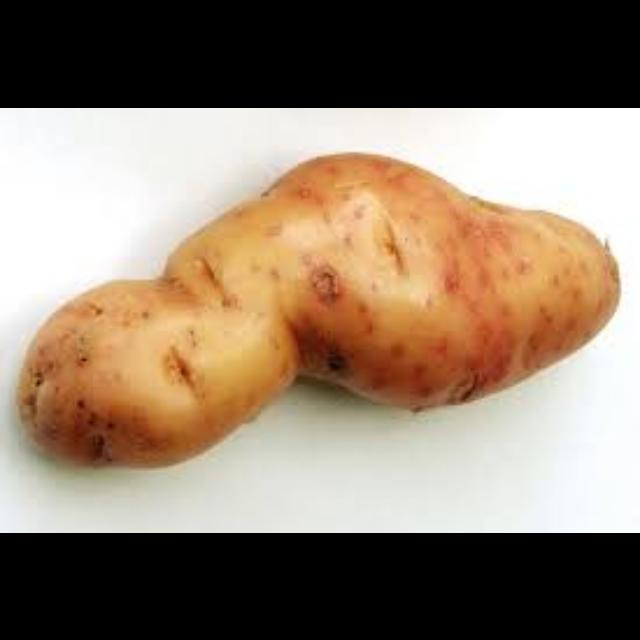Damaged potato: (0, 134, 640, 480)
